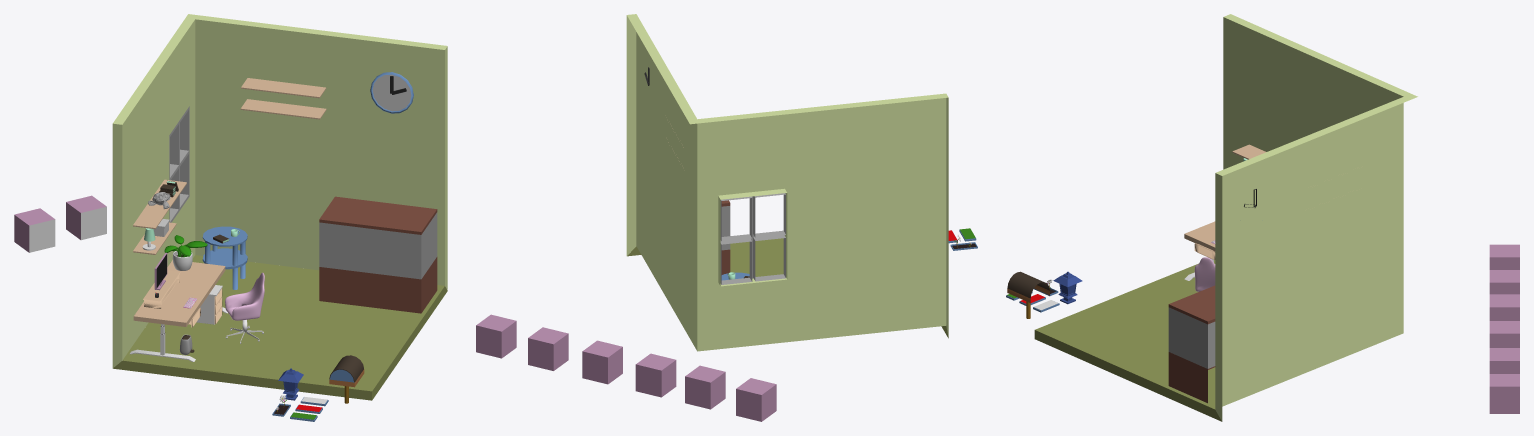
Rendered from room_portfolio_test.glb.
The picture shows the model from 3 angles, left to right: view 1: azimuth 30°, elevation 25°; view 2: azimuth 150°, elevation 25°; view 3: azimuth 270°, elevation 25°; orthographic projection.
Visible parts, largest first — view 1: Body, Aquarium.002, Desks.002, Shelves, Table Stuff.002, Cube.005, Cube.004, Clock, Floor items, Chair, Mailbox.002, Lamp; view 2: Body, Cube, Cube.001, Cube.002, Cube.004, Cube.005, Cube.003, Aquarium.002; view 3: Body, Aquarium.002, Cube.003, Mailbox.002, Cube, Cube.001, Desks.002, Cube.002, Cube.005, Cube.004, Chair, Lamp.
Part boxes in pixels (left/top/right/bottom): Body: left=112, top=14, right=447, bottom=400; Aquarium.002: left=319, top=196, right=437, bottom=313; Desks.002: left=130, top=226, right=247, bottom=361; Shelves: left=133, top=78, right=326, bottom=254; Table Stuff.002: left=143, top=229, right=239, bottom=308; Cube.005: left=14, top=208, right=55, bottom=252; Cube.004: left=66, top=195, right=106, bottom=240; Clock: left=370, top=72, right=413, bottom=113; Floor items: left=179, top=285, right=263, bottom=354; Chair: left=225, top=272, right=264, bottom=320; Mailbox.002: left=329, top=355, right=364, bottom=403; Lamp: left=278, top=368, right=303, bottom=400; Body: left=626, top=14, right=948, bottom=351; Cube: left=635, top=353, right=676, bottom=397; Cube.001: left=582, top=340, right=622, bottom=384; Cube.002: left=528, top=327, right=568, bottom=370; Cube.004: left=685, top=365, right=725, bottom=409; Cube.005: left=736, top=378, right=776, bottom=421; Cube.003: left=476, top=314, right=516, bottom=358; Aquarium.002: left=721, top=200, right=730, bottom=274; Body: left=1034, top=14, right=1417, bottom=421; Aquarium.002: left=1168, top=285, right=1215, bottom=403; Cube.003: left=1489, top=374, right=1519, bottom=413; Mailbox.002: left=1007, top=271, right=1049, bottom=318; Cube: left=1489, top=294, right=1519, bottom=320; Cube.001: left=1489, top=321, right=1519, bottom=347; Desks.002: left=1184, top=221, right=1215, bottom=280; Cube.002: left=1489, top=348, right=1519, bottom=373; Cube.005: left=1489, top=244, right=1519, bottom=269; Cube.004: left=1489, top=270, right=1519, bottom=294; Chair: left=1194, top=257, right=1215, bottom=291; Lamp: left=1053, top=271, right=1082, bottom=304.
Bounding box in the file's own units: 25.73 × 17.95 × 34.
